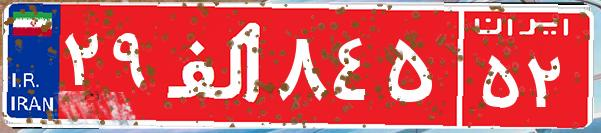2: (57, 26, 110, 107), (525, 38, 570, 115)
4: (330, 28, 385, 110)
5: (385, 28, 445, 110), (475, 38, 525, 113)
8: (273, 28, 330, 110)
9: (110, 28, 158, 105)
الف: (158, 15, 273, 115)
